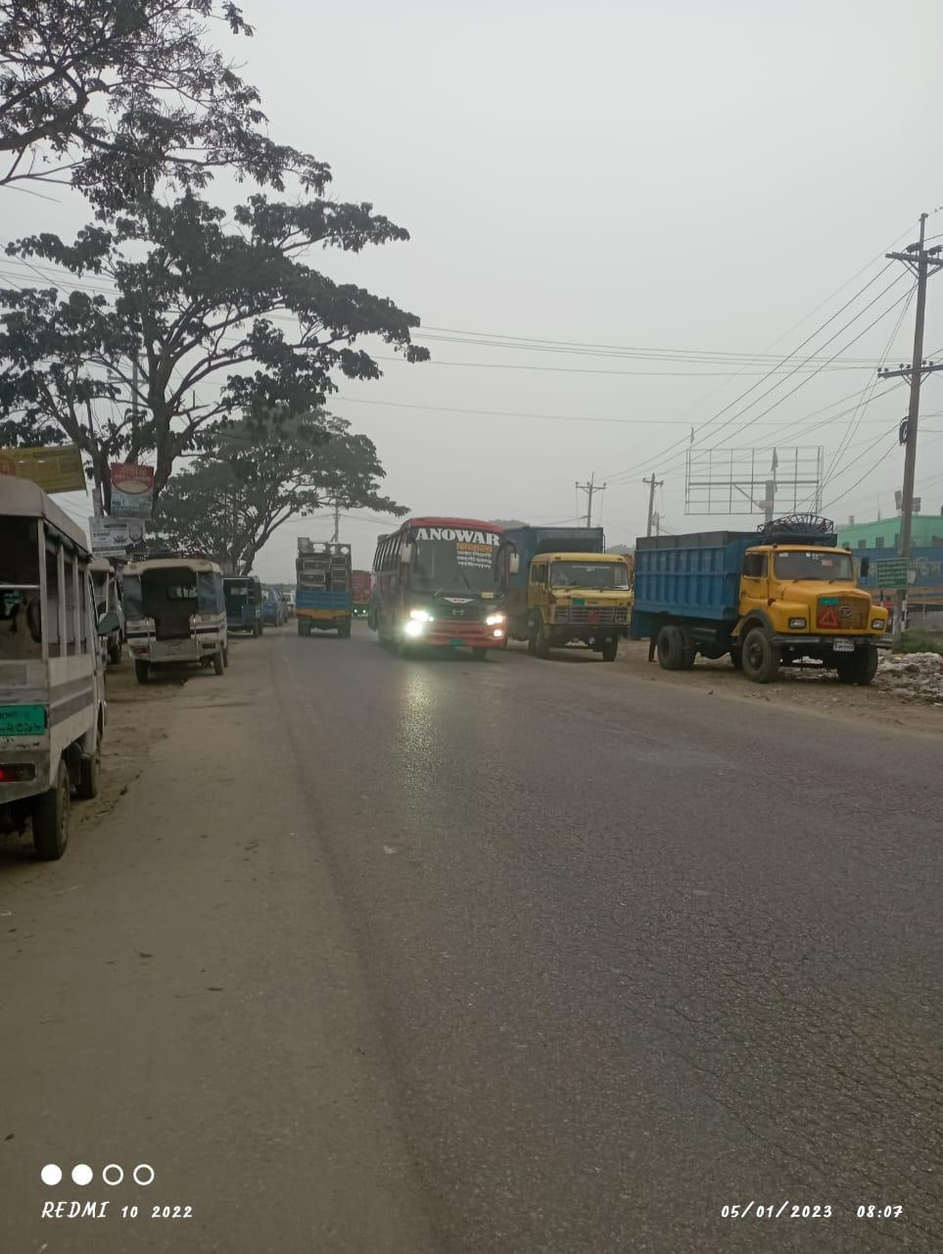Bus: (369, 509, 522, 657)
Car: (2, 465, 119, 870), (125, 545, 236, 693)
Truck: (627, 518, 909, 704), (507, 514, 642, 661), (276, 526, 362, 646)
